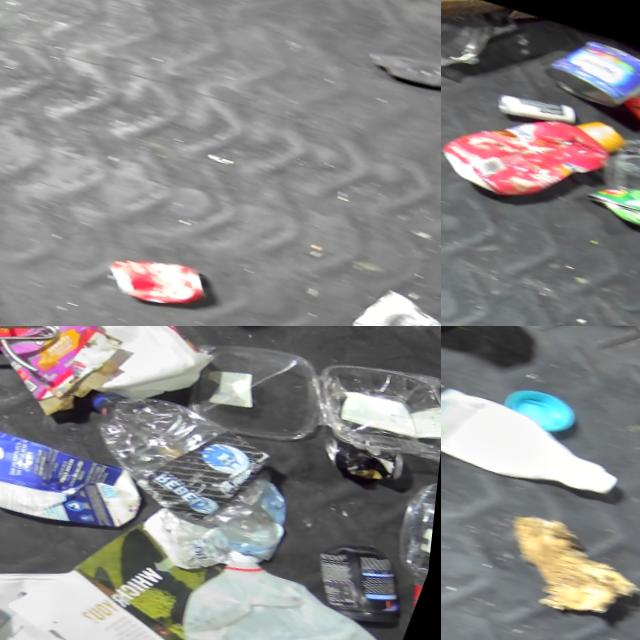can: (102, 240, 229, 318), (536, 26, 640, 115), (320, 429, 415, 484), (491, 83, 585, 131), (349, 278, 441, 326), (583, 168, 640, 236), (617, 76, 640, 146)
milk_jug: (441, 376, 638, 503), (168, 544, 412, 640), (7, 326, 237, 414)
non_white_jug: (441, 78, 639, 220), (0, 406, 163, 543)
plastic_bottle: (61, 376, 289, 531), (377, 471, 441, 609)
